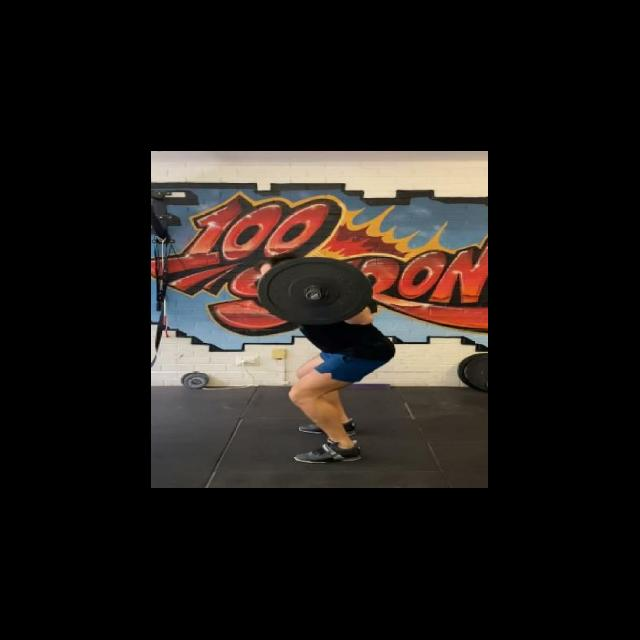barbell: (248, 250, 377, 328)
